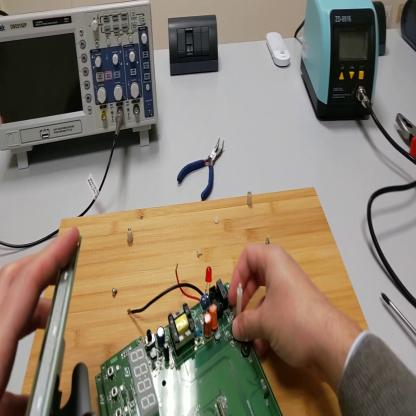hand: (1, 226, 84, 416), (229, 241, 325, 377)
low voltage board: (96, 262, 283, 415)
oscilloscope: (2, 4, 158, 171)
pliers: (178, 137, 226, 203), (398, 111, 416, 160)
screwdriver-: (383, 292, 416, 339)
socket: (403, 3, 415, 51), (379, 4, 389, 54)
welder station: (302, 4, 380, 122)
working area: (18, 191, 375, 411)
